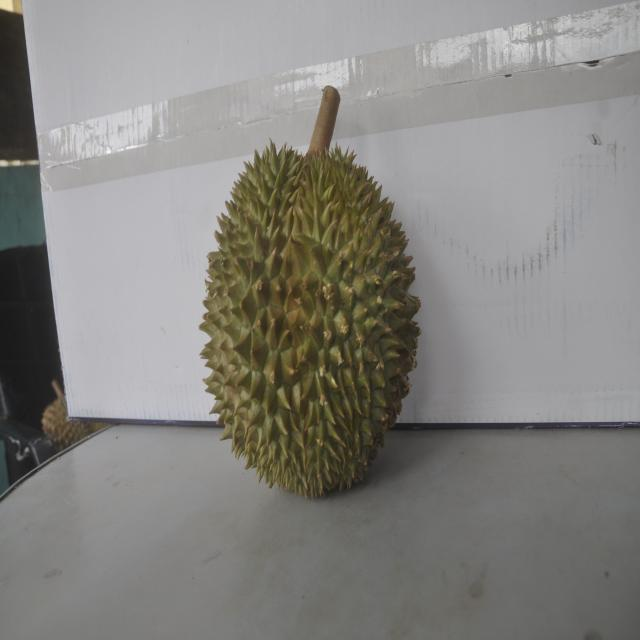mature: (201, 119, 418, 499)
